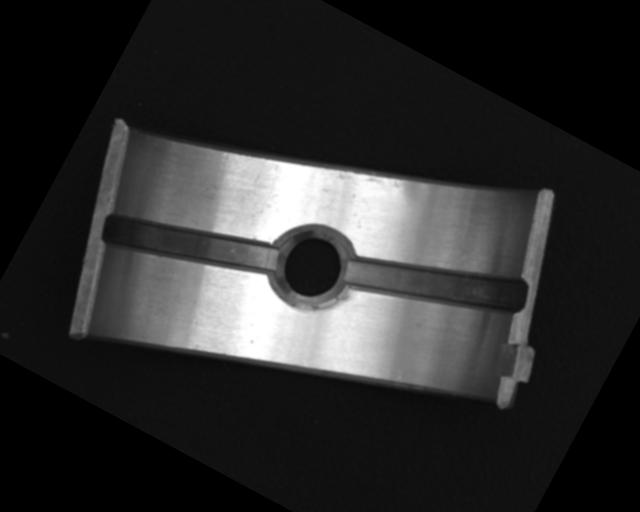gap: (339, 206, 528, 361), (94, 169, 281, 318)
hole: (254, 208, 368, 325)
